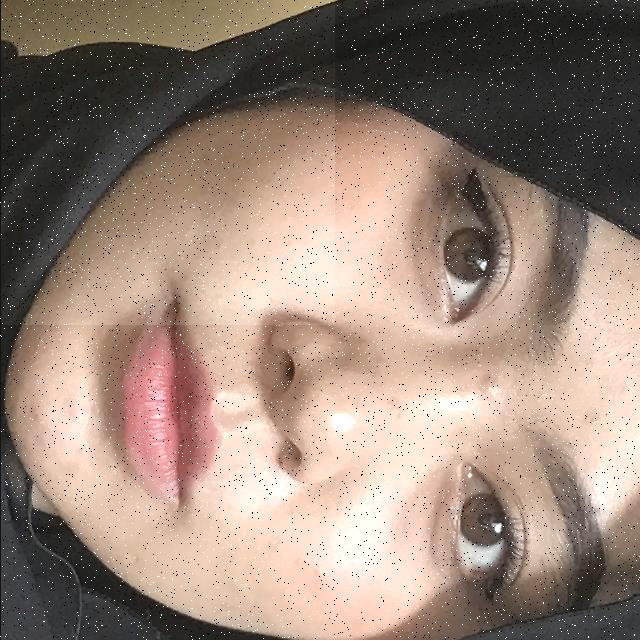kapan: (0, 0, 334, 325)
